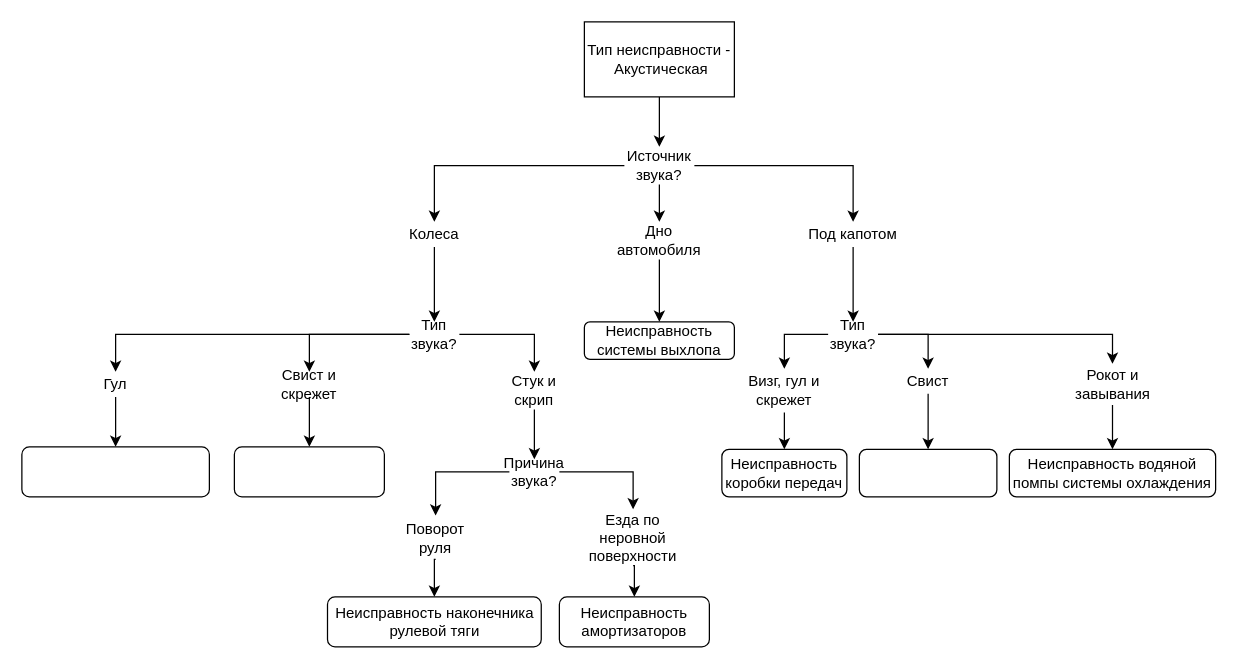
Image size: 1238x669. Some labels were removed from this diagram. The shapes that lost their labels are listed below. From the top down, each one's centre as x and y in pixels, then its label:
At pixel 115 471: "Неисправность ступичных подшипников".
At pixel 308 471: "Неисправность тормозных колодок".
At pixel 927 472: "Неисправность ремня генератора".
